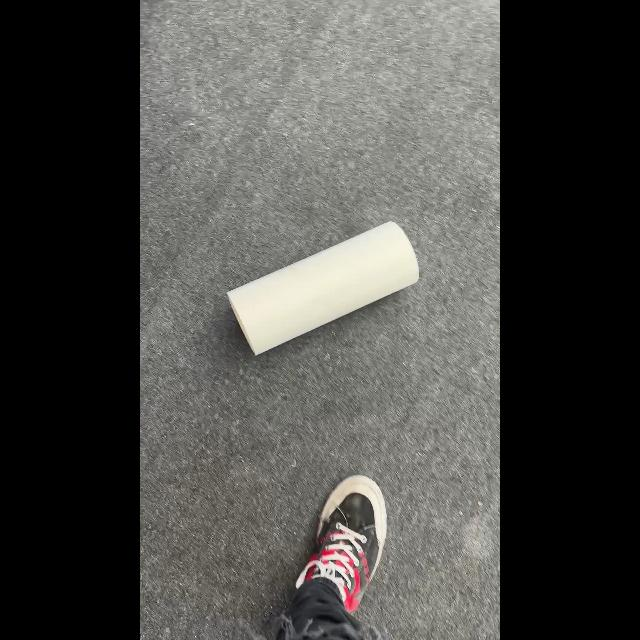CORAL: (225, 220, 419, 356)
